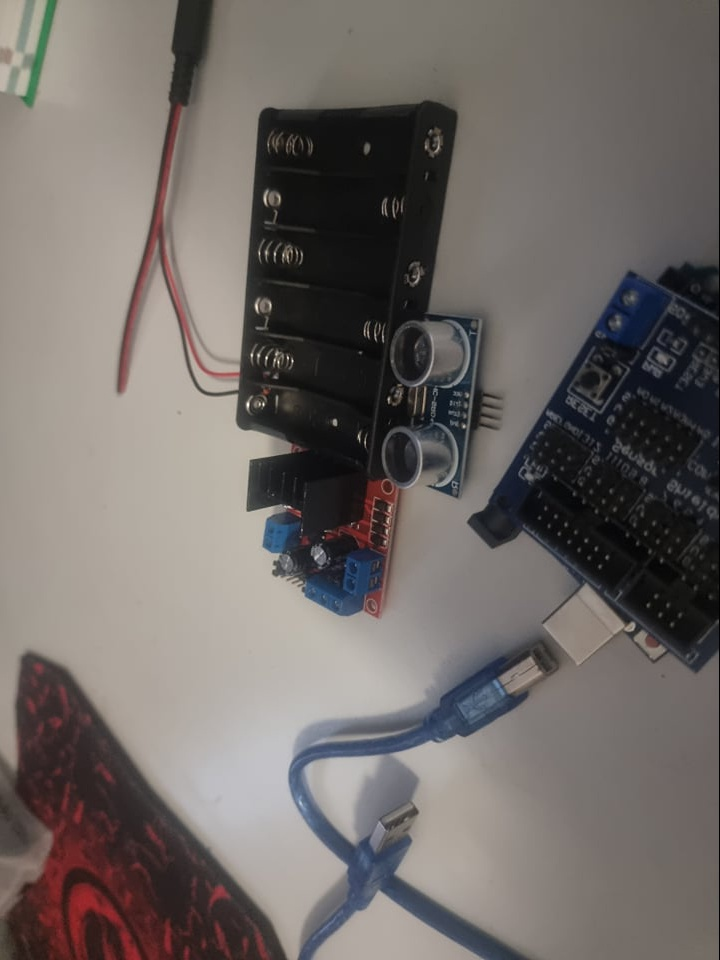5V EXPANSION: (532, 266, 720, 593)
BATTERY BOX: (236, 95, 446, 449)
MOTOR: (244, 453, 400, 631)
SENSOR: (389, 310, 481, 499)
